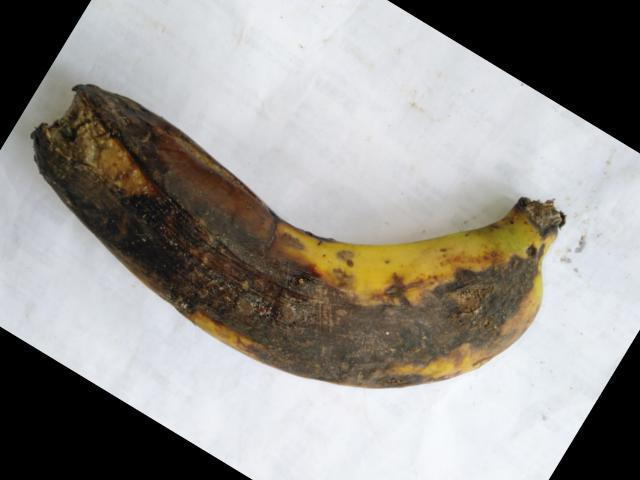rotten: (31, 88, 570, 414)
